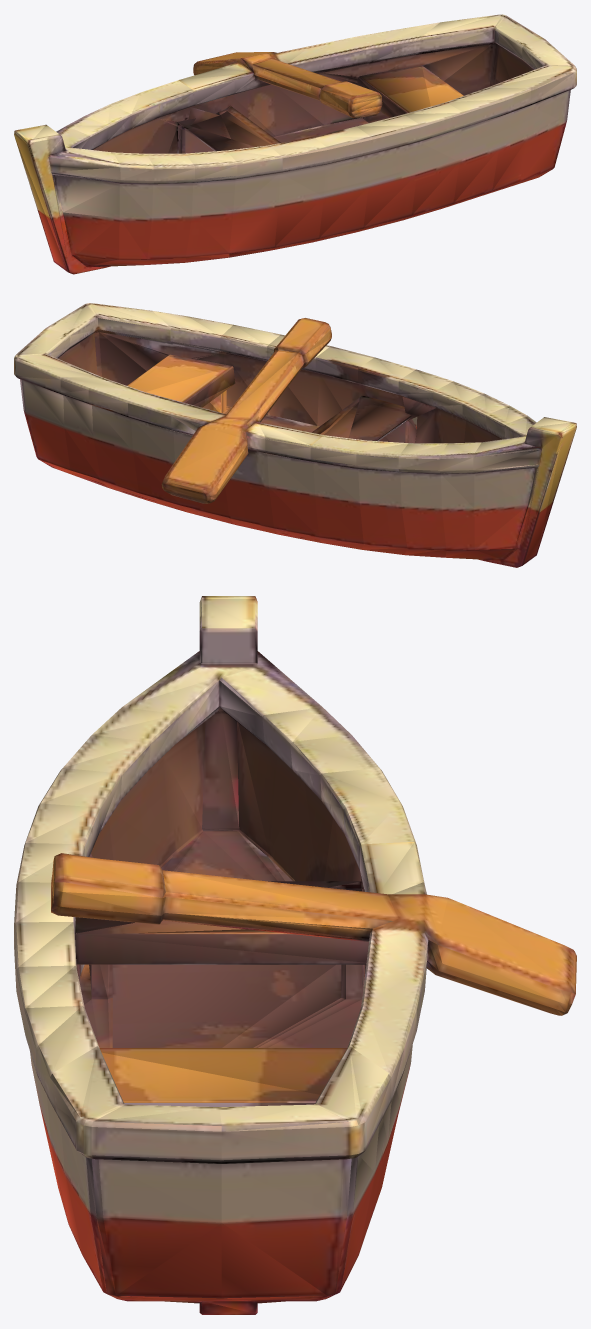
The model's file is barca.glb.
3 renders of one model, top to bottom at view 1: azimuth 30°, elevation 25°; view 2: azimuth 150°, elevation 25°; view 3: azimuth 270°, elevation 25°, orthographic. The views are drawn at different scales.
Visible parts, largest first — view 1: material; view 2: material; view 3: material.
Boxes of the visible parts, left/top/right/bottom form: material: left=14, top=14, right=576, bottom=274; material: left=14, top=303, right=576, bottom=567; material: left=14, top=596, right=576, bottom=1314.
Size of the model in its own units: 3.41 by 0.9148 by 1.7.
1 material, 1 textured.
